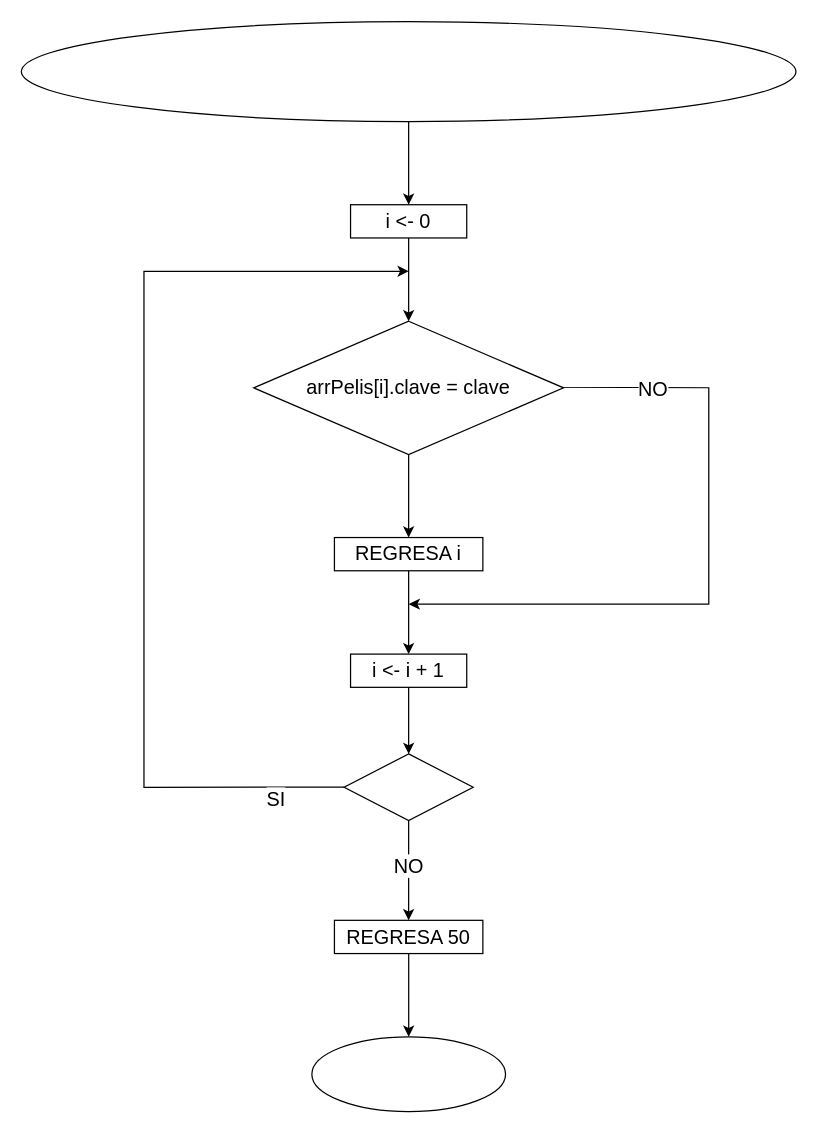
Some shapes in this 818 by 1133 pixel diagram are drawn without their labels. Here are the shapes that lost their labels. From the top down, the centre of each, then its label:
At (408,71): "FUNCION posicionPeli (<E/S> producto: arrPelis[ ], <E> clave, <E> n) -> ENTERO".
At (408,787): "i < n".
At (408,1074): "FIN_posicionProd".
